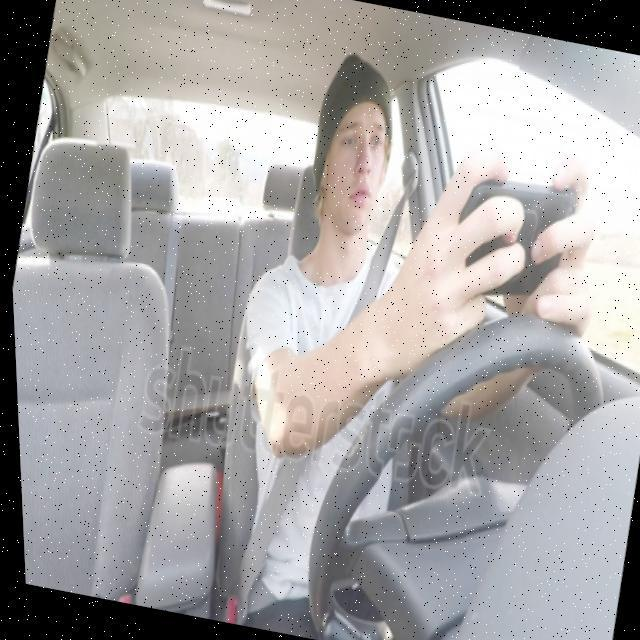PhoneCall: (439, 165, 582, 312)
